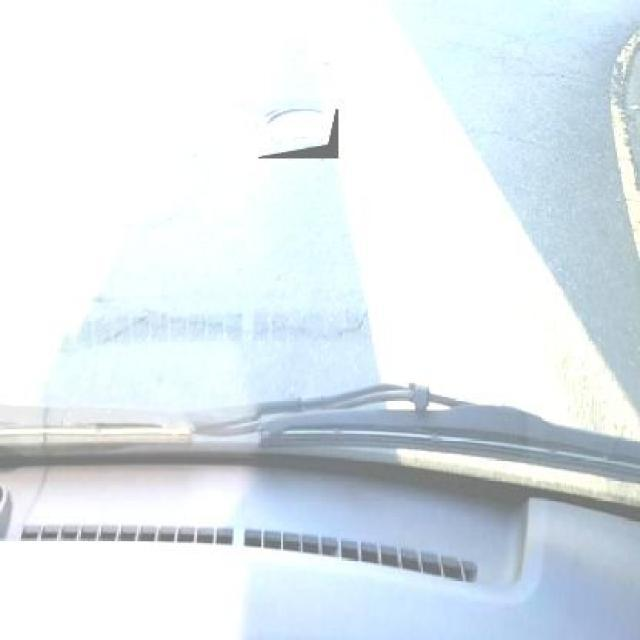Manhole: (258, 110, 338, 158)
